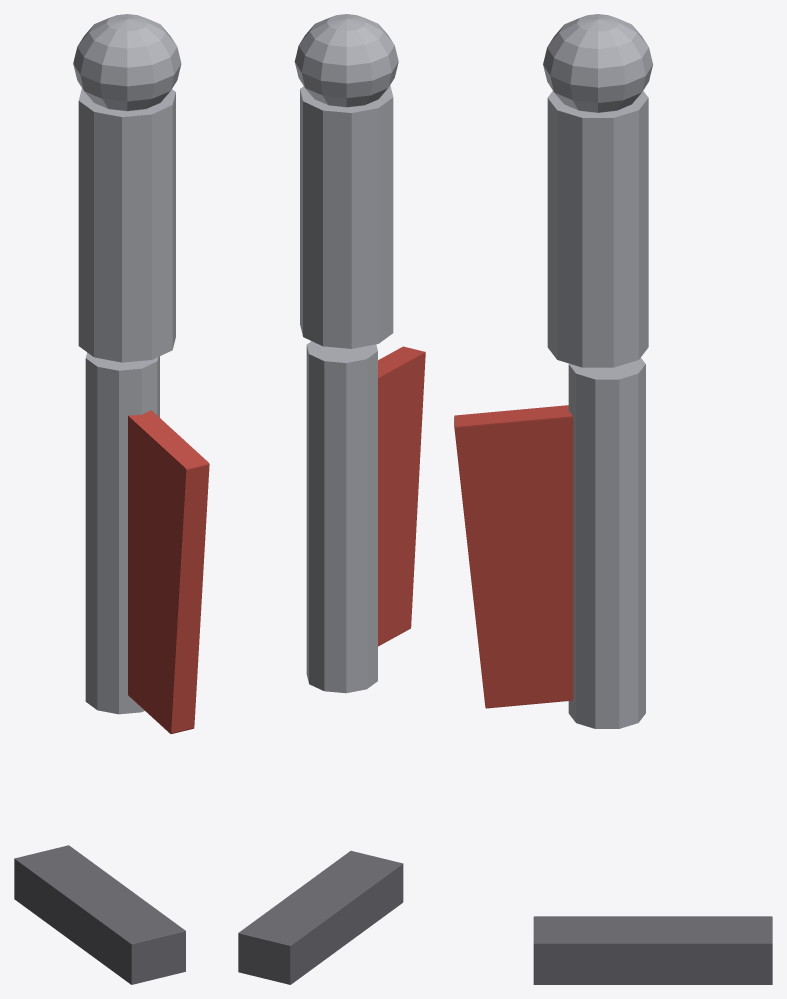
The model's file is street-sprinter.glb.
3 views of the same model, side by side, from view 1: azimuth 30°, elevation 25°; view 2: azimuth 150°, elevation 25°; view 3: azimuth 270°, elevation 25° (orthographic). The views are drawn at different scales.
Parts seen in each view (by area): view 1: thigh, fairing, shin, blade, hip; view 2: shin, thigh, blade, fairing, hip; view 3: fairing, shin, thigh, blade, hip.
Part boxes in pixels (left/top/right/bottom): thigh: left=78, top=88, right=175, bottom=362; fairing: left=128, top=410, right=209, bottom=733; shin: left=85, top=352, right=159, bottom=714; blade: left=14, top=845, right=185, bottom=984; hip: left=73, top=14, right=181, bottom=111; shin: left=306, top=341, right=377, bottom=693; thigh: left=300, top=85, right=393, bottom=348; blade: left=238, top=851, right=403, bottom=984; fairing: left=378, top=346, right=425, bottom=646; hip: left=294, top=14, right=398, bottom=107; fairing: left=454, top=405, right=573, bottom=708; shin: left=568, top=358, right=645, bottom=728; thigh: left=547, top=91, right=648, bottom=367; blade: left=533, top=916, right=772, bottom=984; hip: left=543, top=14, right=652, bottom=112.
Size of the model in its own units: 0.12 by 1.14 by 0.3464.
